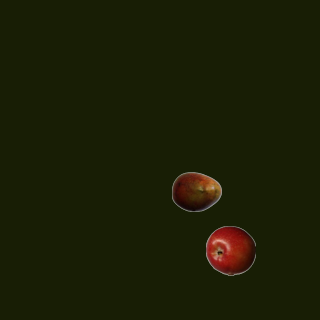Apple Braeburn: (205, 225, 255, 275)
Mango Red: (171, 166, 221, 216)
